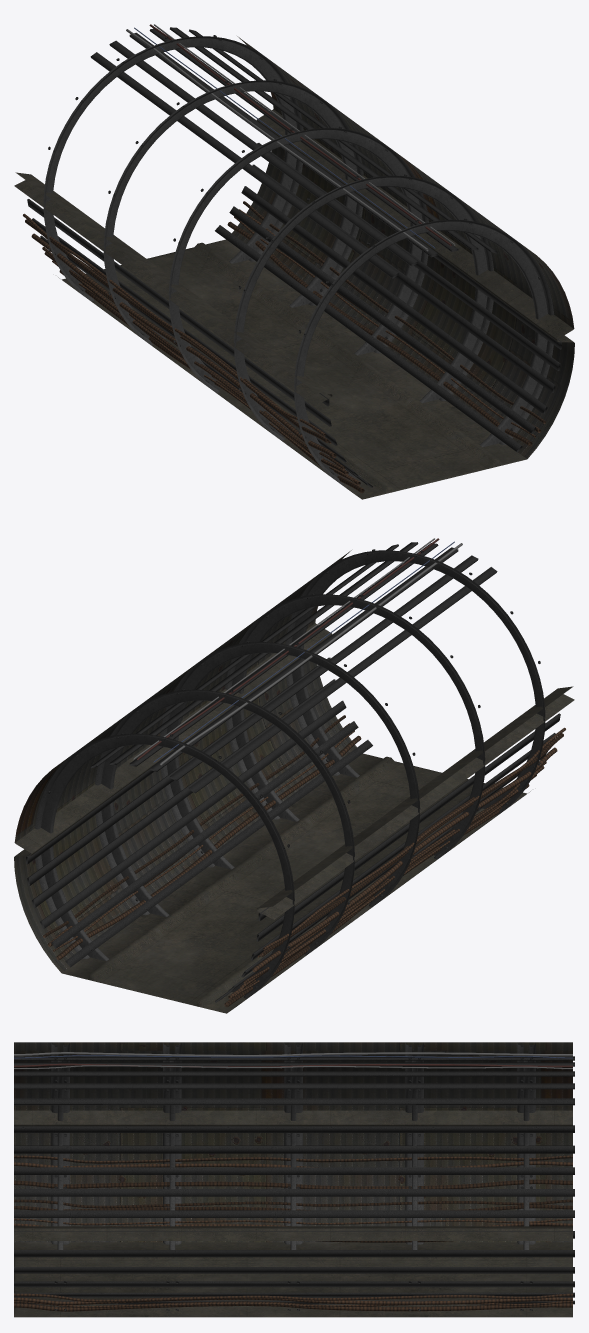
Rendered from tunnel_1.obj.
3 renders of one model, top to bottom at view 1: azimuth 30°, elevation 25°; view 2: azimuth 150°, elevation 25°; view 3: azimuth 270°, elevation 25°, orthographic. The views are drawn at different scales.
Visible parts, largest first — view 1: tunnel_1; view 2: tunnel_1; view 3: tunnel_1.
Part boxes in pixels (x1,y1,x2,y2): tunnel_1: (14,24,574,499); tunnel_1: (14,538,574,1013); tunnel_1: (14,1042,574,1317).
Size of the model in its own units: 3 by 2.7 by 6.02.
